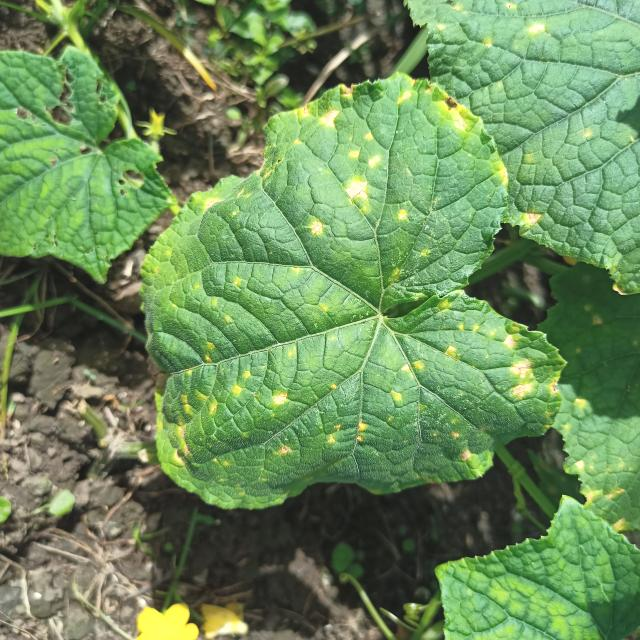disease_cucumber: (159, 74, 537, 490)
